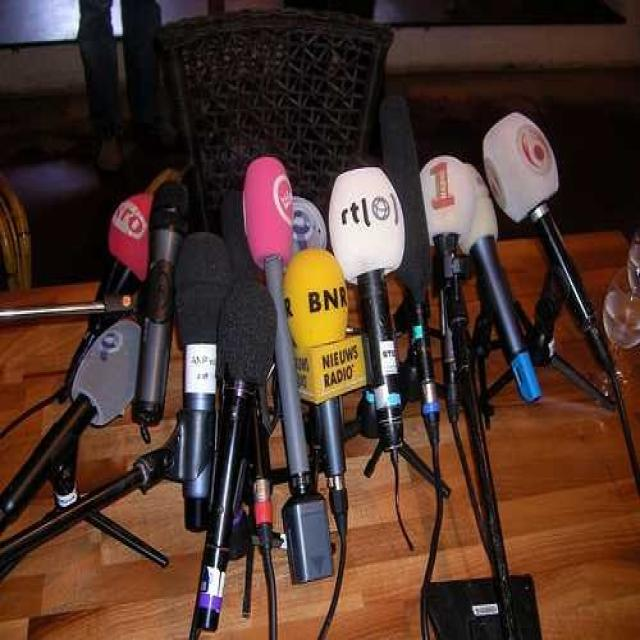microphone: (482, 112, 612, 398), (1, 314, 147, 546), (425, 150, 531, 402), (243, 153, 315, 498), (330, 164, 409, 454), (216, 261, 284, 582), (62, 189, 157, 406), (380, 94, 434, 424), (171, 232, 226, 526), (131, 181, 188, 424), (287, 250, 362, 424), (100, 184, 173, 305), (418, 156, 485, 255), (152, 182, 189, 229), (132, 446, 171, 490), (131, 444, 170, 488), (434, 243, 468, 291), (398, 352, 423, 402)
